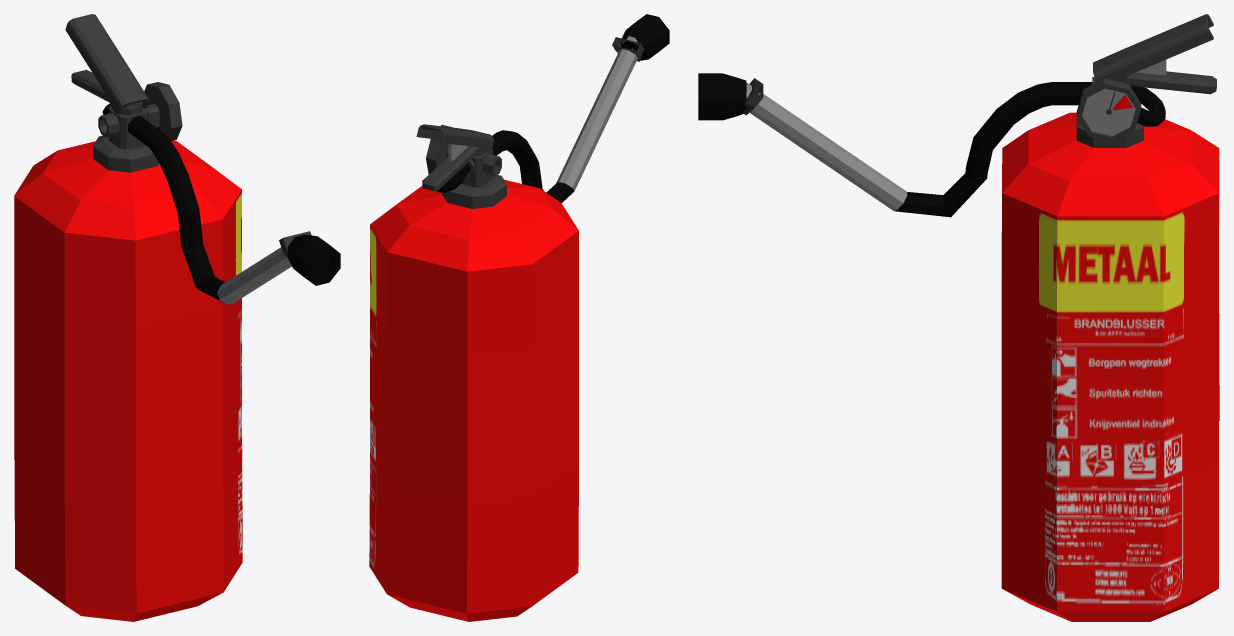
File: metaalblusser_spuit.fbx
The picture shows the model from 3 angles, left to right: view 1: azimuth 30°, elevation 25°; view 2: azimuth 150°, elevation 25°; view 3: azimuth 270°, elevation 25°; orthographic projection. The views are drawn at different scales.
Parts seen in each view (by area): view 1: Cube.001; view 2: Cube.001; view 3: Cube.001.
Part boxes in pixels (left/top/right/bottom): Cube.001: left=14, top=14, right=340, bottom=621; Cube.001: left=369, top=14, right=669, bottom=621; Cube.001: left=698, top=14, right=1219, bottom=621.
Bounding box in the file's own units: 1129 × 1388 × 472.
4 materials, 1 textured.
